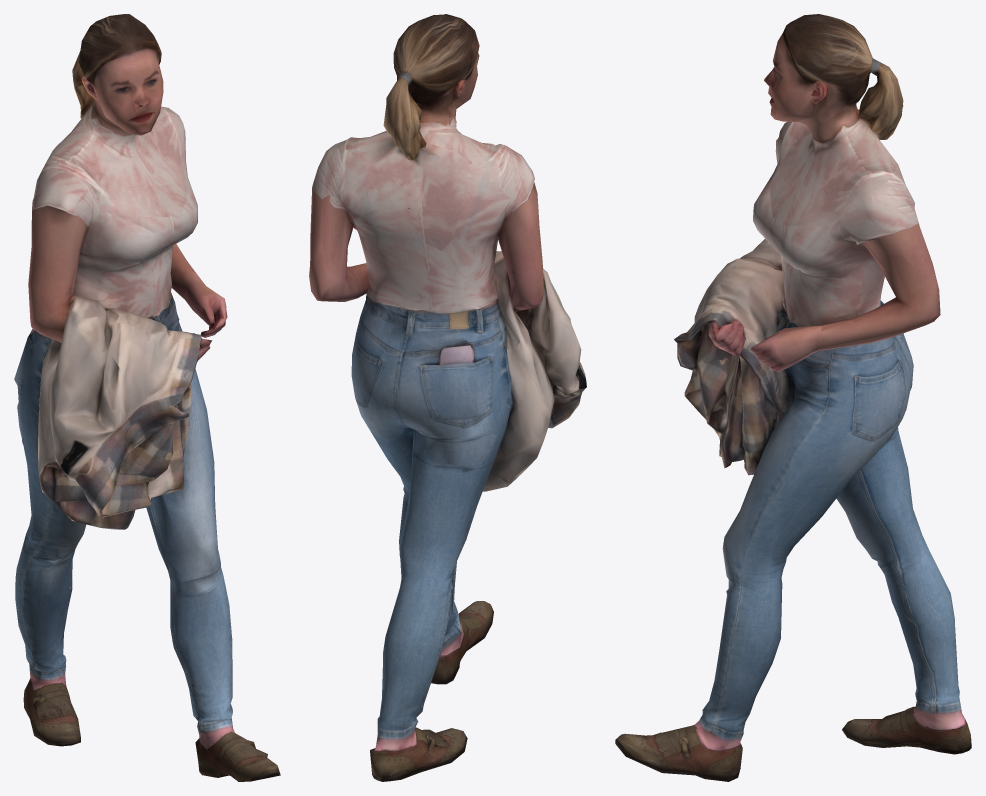
3 renders of one model, left to right at view 1: azimuth 30°, elevation 25°; view 2: azimuth 150°, elevation 25°; view 3: azimuth 270°, elevation 25°, orthographic. The views are drawn at different scales.
Parts seen in each view (by area): view 1: Object_2.003; view 2: Object_2.003; view 3: Object_2.003.
Part boxes in pixels (<box>): Object_2.003: <box>14,14,280,781</box>; Object_2.003: <box>309,14,586,781</box>; Object_2.003: <box>615,14,971,781</box>.
Size of the model in its own units: 0.4709 by 1.66 by 0.7242.
Materials: 1 (1 with a texture image).
